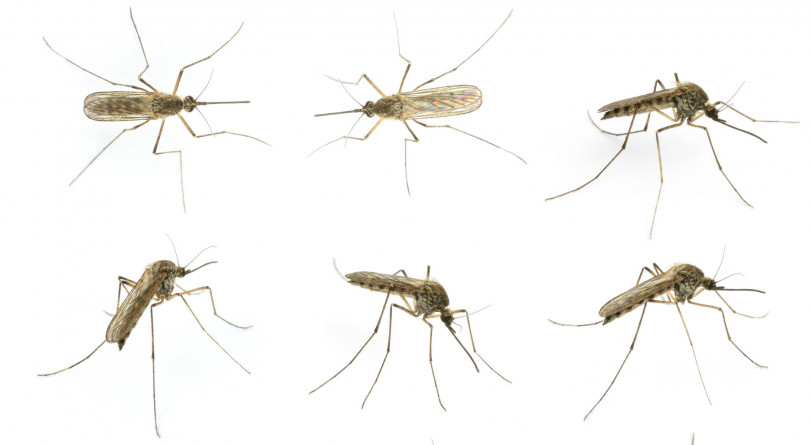mosquito: (25, 4, 289, 215), (29, 234, 270, 431), (551, 45, 807, 228), (549, 255, 800, 433), (306, 11, 536, 204), (304, 241, 534, 426)
